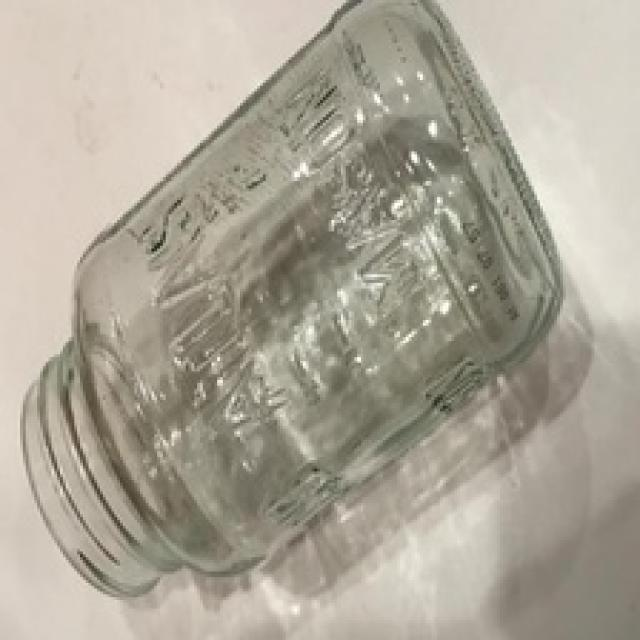Glass: (19, 1, 566, 597)
